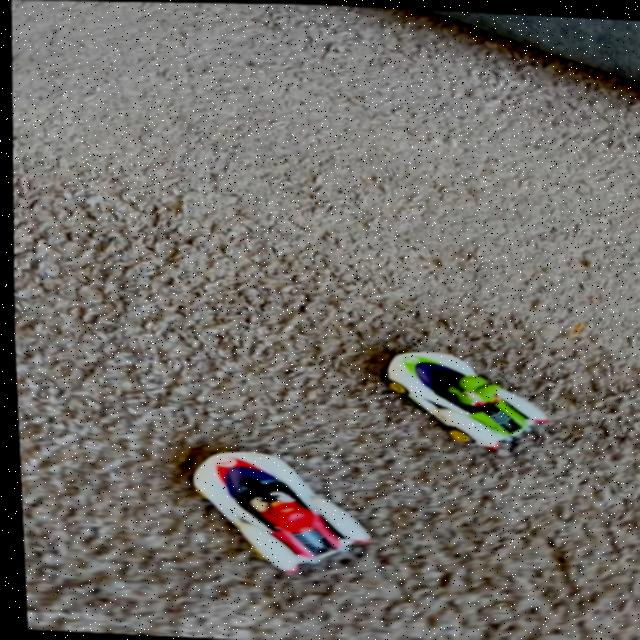mario: (159, 438, 393, 596)
yoshi: (353, 320, 562, 468)
